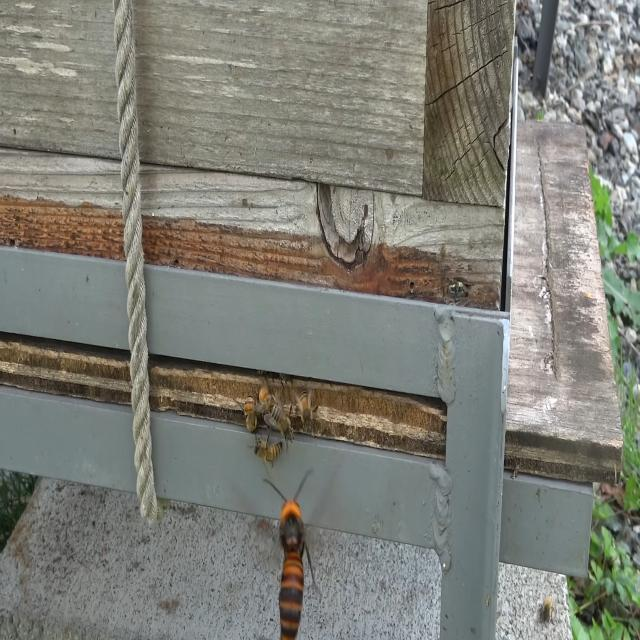Bees: (292, 386, 318, 432), (264, 404, 294, 443), (250, 434, 282, 468), (233, 394, 258, 435), (256, 379, 278, 415)
Hornets: (262, 468, 321, 639)
